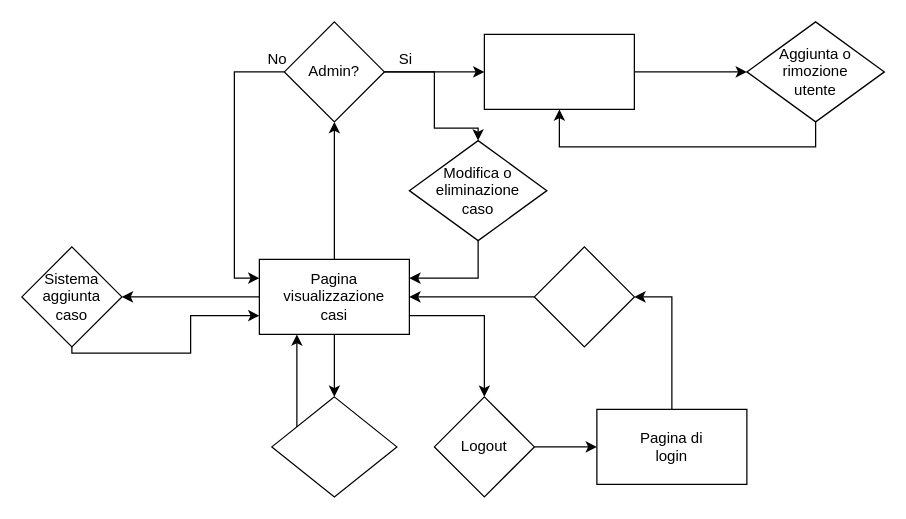
This 906x519 diagram has some shape labels left out. Each missing label, with the centre of its shape:
"Pagina gestione utenti" goes at (x=558, y=71).
"Sistema di login" goes at (x=583, y=296).
"Sistema di ricerca" goes at (x=334, y=446).
